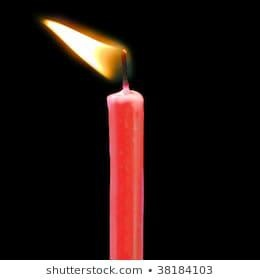fire: (42, 14, 128, 84)
